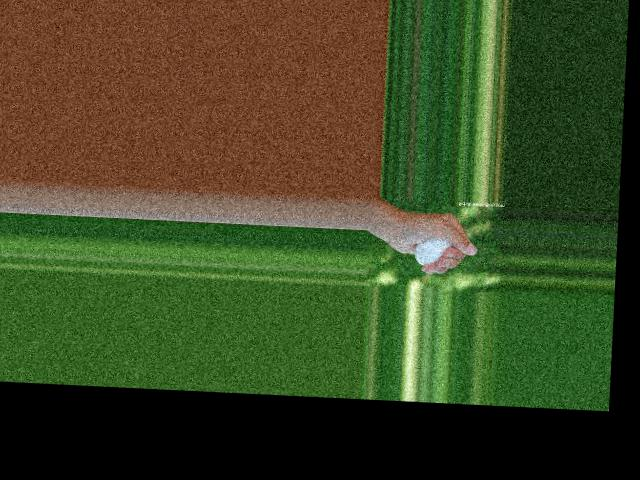egg: (414, 237, 452, 266)
